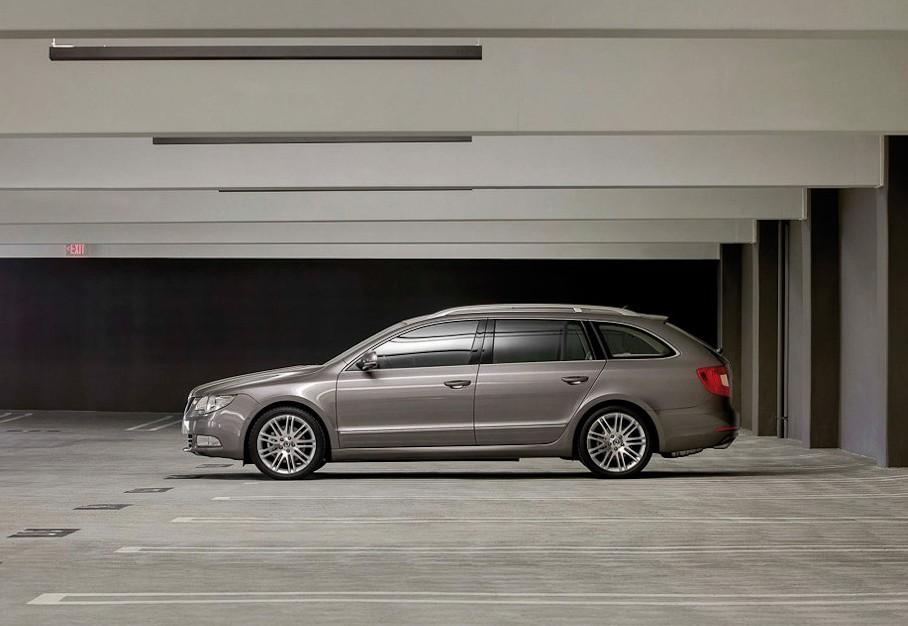Wagon: (180, 303, 738, 478)
